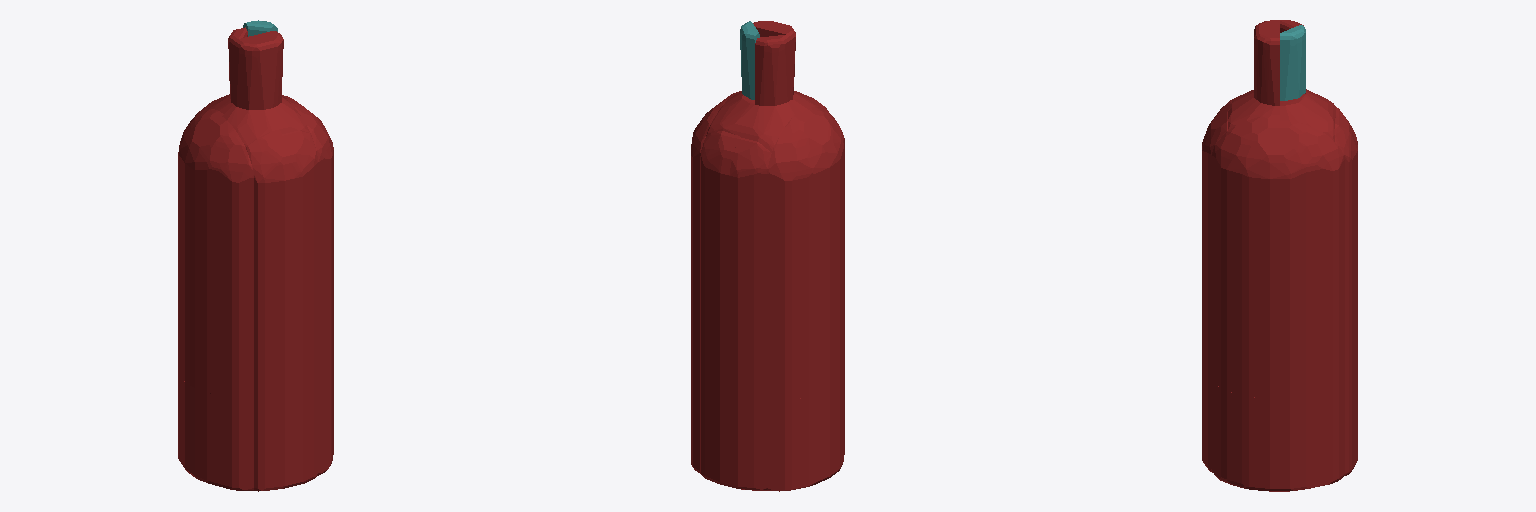
The robot description file, URDF, robot "root":
<robot name="root">
  <link name="bottle_body">
    <inertial>
      <origin xyz="0 0 0" rpy="0 0 0"/>
    </inertial>
    <mass value="1.00E-02"/>
    <visual>
      <origin xyz="0 0 0" rpy="0 0 0"/>
      <geometry>
        <mesh filename="core-bottle-b6261066a2e8e4212c528d33bca1ac2-coacd_convex_piece_3.obj" scale="1.0000E-01 1.0000E-01 1.0000E-01"/>
      </geometry>
      <material name="">
        <color rgba="6.00E-01 2.00E-01 2.00E-01 1"/>
      </material>
    </visual>
    <collision>
      <origin xyz="0 0 0" rpy="0 0 0"/>
      <geometry>
        <mesh filename="core-bottle-b6261066a2e8e4212c528d33bca1ac2-coacd_convex_piece_3.obj" scale="1.0000E-01 1.0000E-01 1.0000E-01"/>
      </geometry>
    </collision>
    <visual>
      <origin xyz="0 0 0" rpy="0 0 0"/>
      <geometry>
        <mesh filename="core-bottle-b6261066a2e8e4212c528d33bca1ac2-coacd_convex_piece_10.obj" scale="1.0000E-01 1.0000E-01 1.0000E-01"/>
      </geometry>
      <material name="">
        <color rgba="6.00E-01 2.00E-01 2.00E-01 1"/>
      </material>
    </visual>
    <collision>
      <origin xyz="0 0 0" rpy="0 0 0"/>
      <geometry>
        <mesh filename="core-bottle-b6261066a2e8e4212c528d33bca1ac2-coacd_convex_piece_10.obj" scale="1.0000E-01 1.0000E-01 1.0000E-01"/>
      </geometry>
    </collision>
    <visual>
      <origin xyz="0 0 0" rpy="0 0 0"/>
      <geometry>
        <mesh filename="core-bottle-b6261066a2e8e4212c528d33bca1ac2-coacd_convex_piece_7.obj" scale="1.0000E-01 1.0000E-01 1.0000E-01"/>
      </geometry>
      <material name="">
        <color rgba="6.00E-01 2.00E-01 2.00E-01 1"/>
      </material>
    </visual>
    <collision>
      <origin xyz="0 0 0" rpy="0 0 0"/>
      <geometry>
        <mesh filename="core-bottle-b6261066a2e8e4212c528d33bca1ac2-coacd_convex_piece_7.obj" scale="1.0000E-01 1.0000E-01 1.0000E-01"/>
      </geometry>
    </collision>
    <visual>
      <origin xyz="0 0 0" rpy="0 0 0"/>
      <geometry>
        <mesh filename="core-bottle-b6261066a2e8e4212c528d33bca1ac2-coacd_convex_piece_4.obj" scale="1.0000E-01 1.0000E-01 1.0000E-01"/>
      </geometry>
      <material name="">
        <color rgba="6.00E-01 2.00E-01 2.00E-01 1"/>
      </material>
    </visual>
    <collision>
      <origin xyz="0 0 0" rpy="0 0 0"/>
      <geometry>
        <mesh filename="core-bottle-b6261066a2e8e4212c528d33bca1ac2-coacd_convex_piece_4.obj" scale="1.0000E-01 1.0000E-01 1.0000E-01"/>
      </geometry>
    </collision>
    <visual>
      <origin xyz="0 0 0" rpy="0 0 0"/>
      <geometry>
        <mesh filename="core-bottle-b6261066a2e8e4212c528d33bca1ac2-coacd_convex_piece_5.obj" scale="1.0000E-01 1.0000E-01 1.0000E-01"/>
      </geometry>
      <material name="">
        <color rgba="6.00E-01 2.00E-01 2.00E-01 1"/>
      </material>
    </visual>
    <collision>
      <origin xyz="0 0 0" rpy="0 0 0"/>
      <geometry>
        <mesh filename="core-bottle-b6261066a2e8e4212c528d33bca1ac2-coacd_convex_piece_5.obj" scale="1.0000E-01 1.0000E-01 1.0000E-01"/>
      </geometry>
    </collision>
    <visual>
      <origin xyz="0 0 0" rpy="0 0 0"/>
      <geometry>
        <mesh filename="core-bottle-b6261066a2e8e4212c528d33bca1ac2-coacd_convex_piece_11.obj" scale="1.0000E-01 1.0000E-01 1.0000E-01"/>
      </geometry>
      <material name="">
        <color rgba="6.00E-01 2.00E-01 2.00E-01 1"/>
      </material>
    </visual>
    <collision>
      <origin xyz="0 0 0" rpy="0 0 0"/>
      <geometry>
        <mesh filename="core-bottle-b6261066a2e8e4212c528d33bca1ac2-coacd_convex_piece_11.obj" scale="1.0000E-01 1.0000E-01 1.0000E-01"/>
      </geometry>
    </collision>
    <visual>
      <origin xyz="0 0 0" rpy="0 0 0"/>
      <geometry>
        <mesh filename="core-bottle-b6261066a2e8e4212c528d33bca1ac2-coacd_convex_piece_1.obj" scale="1.0000E-01 1.0000E-01 1.0000E-01"/>
      </geometry>
      <material name="">
        <color rgba="6.00E-01 2.00E-01 2.00E-01 1"/>
      </material>
    </visual>
    <collision>
      <origin xyz="0 0 0" rpy="0 0 0"/>
      <geometry>
        <mesh filename="core-bottle-b6261066a2e8e4212c528d33bca1ac2-coacd_convex_piece_1.obj" scale="1.0000E-01 1.0000E-01 1.0000E-01"/>
      </geometry>
    </collision>
    <visual>
      <origin xyz="0 0 0" rpy="0 0 0"/>
      <geometry>
        <mesh filename="core-bottle-b6261066a2e8e4212c528d33bca1ac2-coacd_convex_piece_12.obj" scale="1.0000E-01 1.0000E-01 1.0000E-01"/>
      </geometry>
      <material name="">
        <color rgba="6.00E-01 2.00E-01 2.00E-01 1"/>
      </material>
    </visual>
    <collision>
      <origin xyz="0 0 0" rpy="0 0 0"/>
      <geometry>
        <mesh filename="core-bottle-b6261066a2e8e4212c528d33bca1ac2-coacd_convex_piece_12.obj" scale="1.0000E-01 1.0000E-01 1.0000E-01"/>
      </geometry>
    </collision>
    <visual>
      <origin xyz="0 0 0" rpy="0 0 0"/>
      <geometry>
        <mesh filename="core-bottle-b6261066a2e8e4212c528d33bca1ac2-coacd_convex_piece_13.obj" scale="1.0000E-01 1.0000E-01 1.0000E-01"/>
      </geometry>
      <material name="">
        <color rgba="6.00E-01 2.00E-01 2.00E-01 1"/>
      </material>
    </visual>
    <collision>
      <origin xyz="0 0 0" rpy="0 0 0"/>
      <geometry>
        <mesh filename="core-bottle-b6261066a2e8e4212c528d33bca1ac2-coacd_convex_piece_13.obj" scale="1.0000E-01 1.0000E-01 1.0000E-01"/>
      </geometry>
    </collision>
    <visual>
      <origin xyz="0 0 0" rpy="0 0 0"/>
      <geometry>
        <mesh filename="core-bottle-b6261066a2e8e4212c528d33bca1ac2-coacd_convex_piece_2.obj" scale="1.0000E-01 1.0000E-01 1.0000E-01"/>
      </geometry>
      <material name="">
        <color rgba="6.00E-01 2.00E-01 2.00E-01 1"/>
      </material>
    </visual>
    <collision>
      <origin xyz="0 0 0" rpy="0 0 0"/>
      <geometry>
        <mesh filename="core-bottle-b6261066a2e8e4212c528d33bca1ac2-coacd_convex_piece_2.obj" scale="1.0000E-01 1.0000E-01 1.0000E-01"/>
      </geometry>
    </collision>
    <visual>
      <origin xyz="0 0 0" rpy="0 0 0"/>
      <geometry>
        <mesh filename="core-bottle-b6261066a2e8e4212c528d33bca1ac2-coacd_convex_piece_0.obj" scale="1.0000E-01 1.0000E-01 1.0000E-01"/>
      </geometry>
      <material name="">
        <color rgba="6.00E-01 2.00E-01 2.00E-01 1"/>
      </material>
    </visual>
    <collision>
      <origin xyz="0 0 0" rpy="0 0 0"/>
      <geometry>
        <mesh filename="core-bottle-b6261066a2e8e4212c528d33bca1ac2-coacd_convex_piece_0.obj" scale="1.0000E-01 1.0000E-01 1.0000E-01"/>
      </geometry>
    </collision>
    <visual>
      <origin xyz="0 0 0" rpy="0 0 0"/>
      <geometry>
        <mesh filename="core-bottle-b6261066a2e8e4212c528d33bca1ac2-coacd_convex_piece_8.obj" scale="1.0000E-01 1.0000E-01 1.0000E-01"/>
      </geometry>
      <material name="">
        <color rgba="6.00E-01 2.00E-01 2.00E-01 1"/>
      </material>
    </visual>
    <collision>
      <origin xyz="0 0 0" rpy="0 0 0"/>
      <geometry>
        <mesh filename="core-bottle-b6261066a2e8e4212c528d33bca1ac2-coacd_convex_piece_8.obj" scale="1.0000E-01 1.0000E-01 1.0000E-01"/>
      </geometry>
    </collision>
    <visual>
      <origin xyz="0 0 0" rpy="0 0 0"/>
      <geometry>
        <mesh filename="core-bottle-b6261066a2e8e4212c528d33bca1ac2-coacd_convex_piece_9.obj" scale="1.0000E-01 1.0000E-01 1.0000E-01"/>
      </geometry>
      <material name="">
        <color rgba="6.00E-01 2.00E-01 2.00E-01 1"/>
      </material>
    </visual>
    <collision>
      <origin xyz="0 0 0" rpy="0 0 0"/>
      <geometry>
        <mesh filename="core-bottle-b6261066a2e8e4212c528d33bca1ac2-coacd_convex_piece_9.obj" scale="1.0000E-01 1.0000E-01 1.0000E-01"/>
      </geometry>
    </collision>
    <visual>
      <origin xyz="0 0 0" rpy="0 0 0"/>
      <geometry>
        <mesh filename="core-bottle-b6261066a2e8e4212c528d33bca1ac2-coacd_convex_piece_14.obj" scale="1.0000E-01 1.0000E-01 1.0000E-01"/>
      </geometry>
      <material name="">
        <color rgba="6.00E-01 2.00E-01 2.00E-01 1"/>
      </material>
    </visual>
    <collision>
      <origin xyz="0 0 0" rpy="0 0 0"/>
      <geometry>
        <mesh filename="core-bottle-b6261066a2e8e4212c528d33bca1ac2-coacd_convex_piece_14.obj" scale="1.0000E-01 1.0000E-01 1.0000E-01"/>
      </geometry>
    </collision>
  </link>
  <link name="bottle_cap">
    <origin xyz="0 0 0.002" rpy="0 0 0"/>
    <mass value="1.00E-02"/>
    <visual>
      <origin xyz="0 0 0.002" rpy="0 0 0"/>
      <geometry>
        <mesh filename="core-bottle-b6261066a2e8e4212c528d33bca1ac2-coacd_convex_piece_6.obj" scale="1.0000E-01 1.0000E-01 1.0000E-01"/>
      </geometry>
      <material name="">
        <color rgba="3.00E-01 6.00E-01 6.00E-01 1"/>
      </material>
    </visual>
    <collision>
      <origin xyz="0 0 0.002" rpy="0 0 0"/>
      <geometry>
        <mesh filename="core-bottle-b6261066a2e8e4212c528d33bca1ac2-coacd_convex_piece_6.obj" scale="1.0000E-01 1.0000E-01 1.0000E-01"/>
      </geometry>
    </collision>
  </link>
  <joint name="bottle_cap_joint" type="revolute">
    <origin xyz="0 0 0" rpy="0 0 0"/>
    <parent link="bottle_body"/>
    <child link="bottle_cap"/>
    <axis xyz="0 0 1"/>
    <limit lower="0.00" upper="6.28"/>
    <dynamics damping="0.05"/>
  </joint>
</robot>

--- What the picture shows (computed from the rendered views, not written in the file) ---
3 views of the same robot in one strip: view 1: azimuth 30°, elevation 25°; view 2: azimuth 150°, elevation 25°; view 3: azimuth 270°, elevation 25° (orthographic).
Robot: root — 2 links, 1 joints (1 revolute); root link bottle_body; default pose: every joint at zero.
Visible links, largest first — view 1: bottle_body; view 2: bottle_body, bottle_cap; view 3: bottle_body, bottle_cap.
Link boxes in pixels (bbox=[...]): bottle_body: bbox=[178, 27, 333, 491]; bottle_body: bbox=[691, 21, 844, 491]; bottle_cap: bbox=[740, 21, 759, 99]; bottle_body: bbox=[1202, 20, 1357, 491]; bottle_cap: bbox=[1280, 25, 1305, 100].
Bounding box of the posed robot: 0.061 × 0.061 × 0.1891 m (x, y, z).
Meshes: 15 distinct files referenced, 15 mesh visuals loaded (15 OBJ).